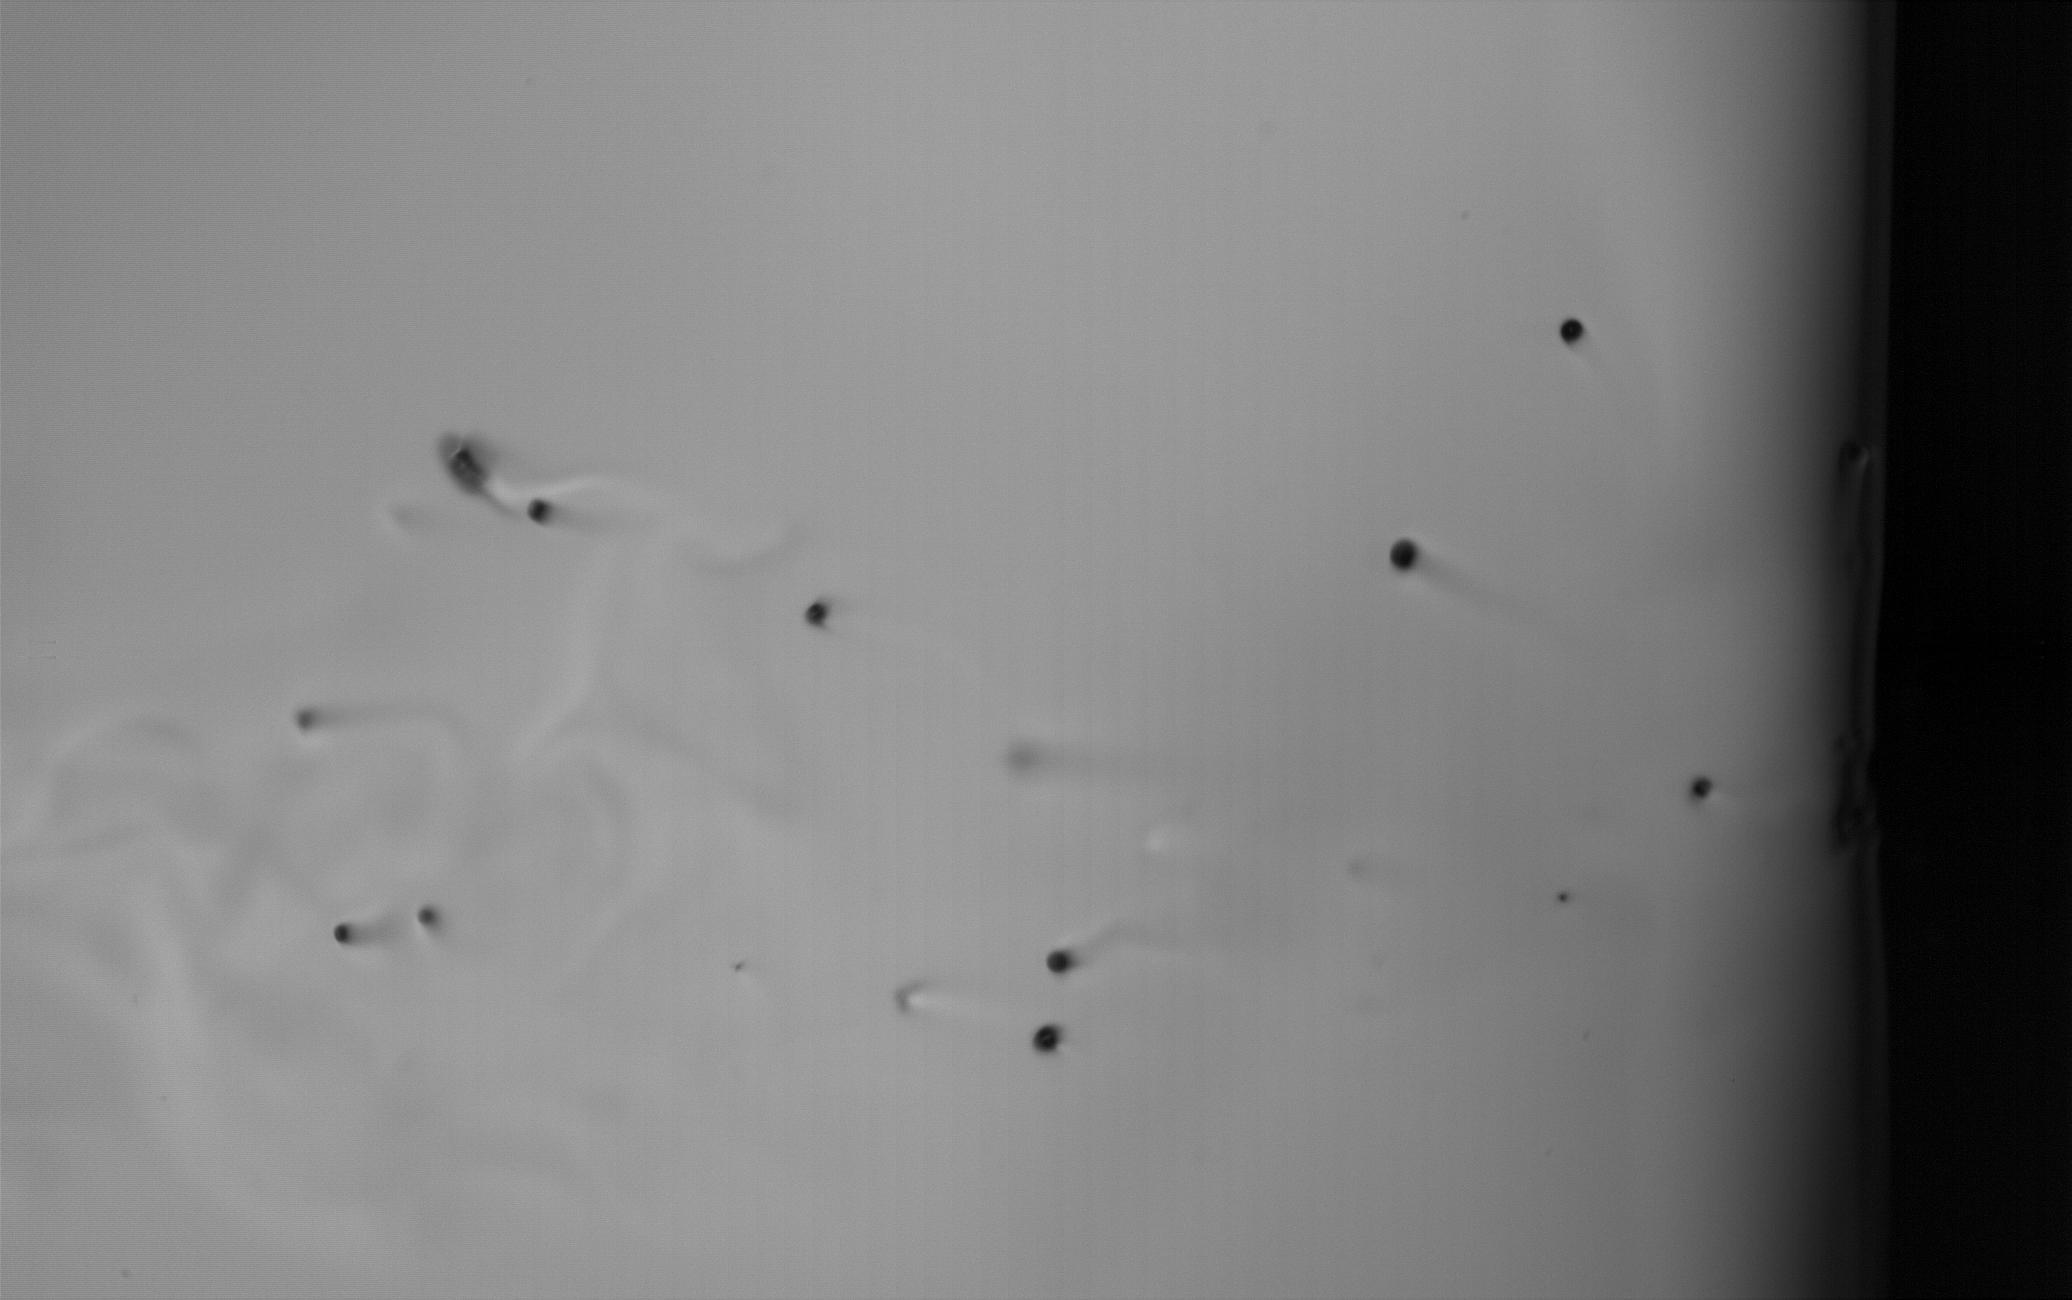Blurry: (436, 428, 505, 512)
ClassicalEvaporation: (325, 917, 359, 953), (1557, 315, 1591, 350), (1686, 774, 1720, 810), (1045, 947, 1079, 981), (1386, 539, 1421, 574), (410, 897, 445, 932), (799, 595, 834, 629), (1029, 1021, 1061, 1056), (522, 494, 552, 526), (293, 705, 319, 732), (1554, 890, 1572, 908)
